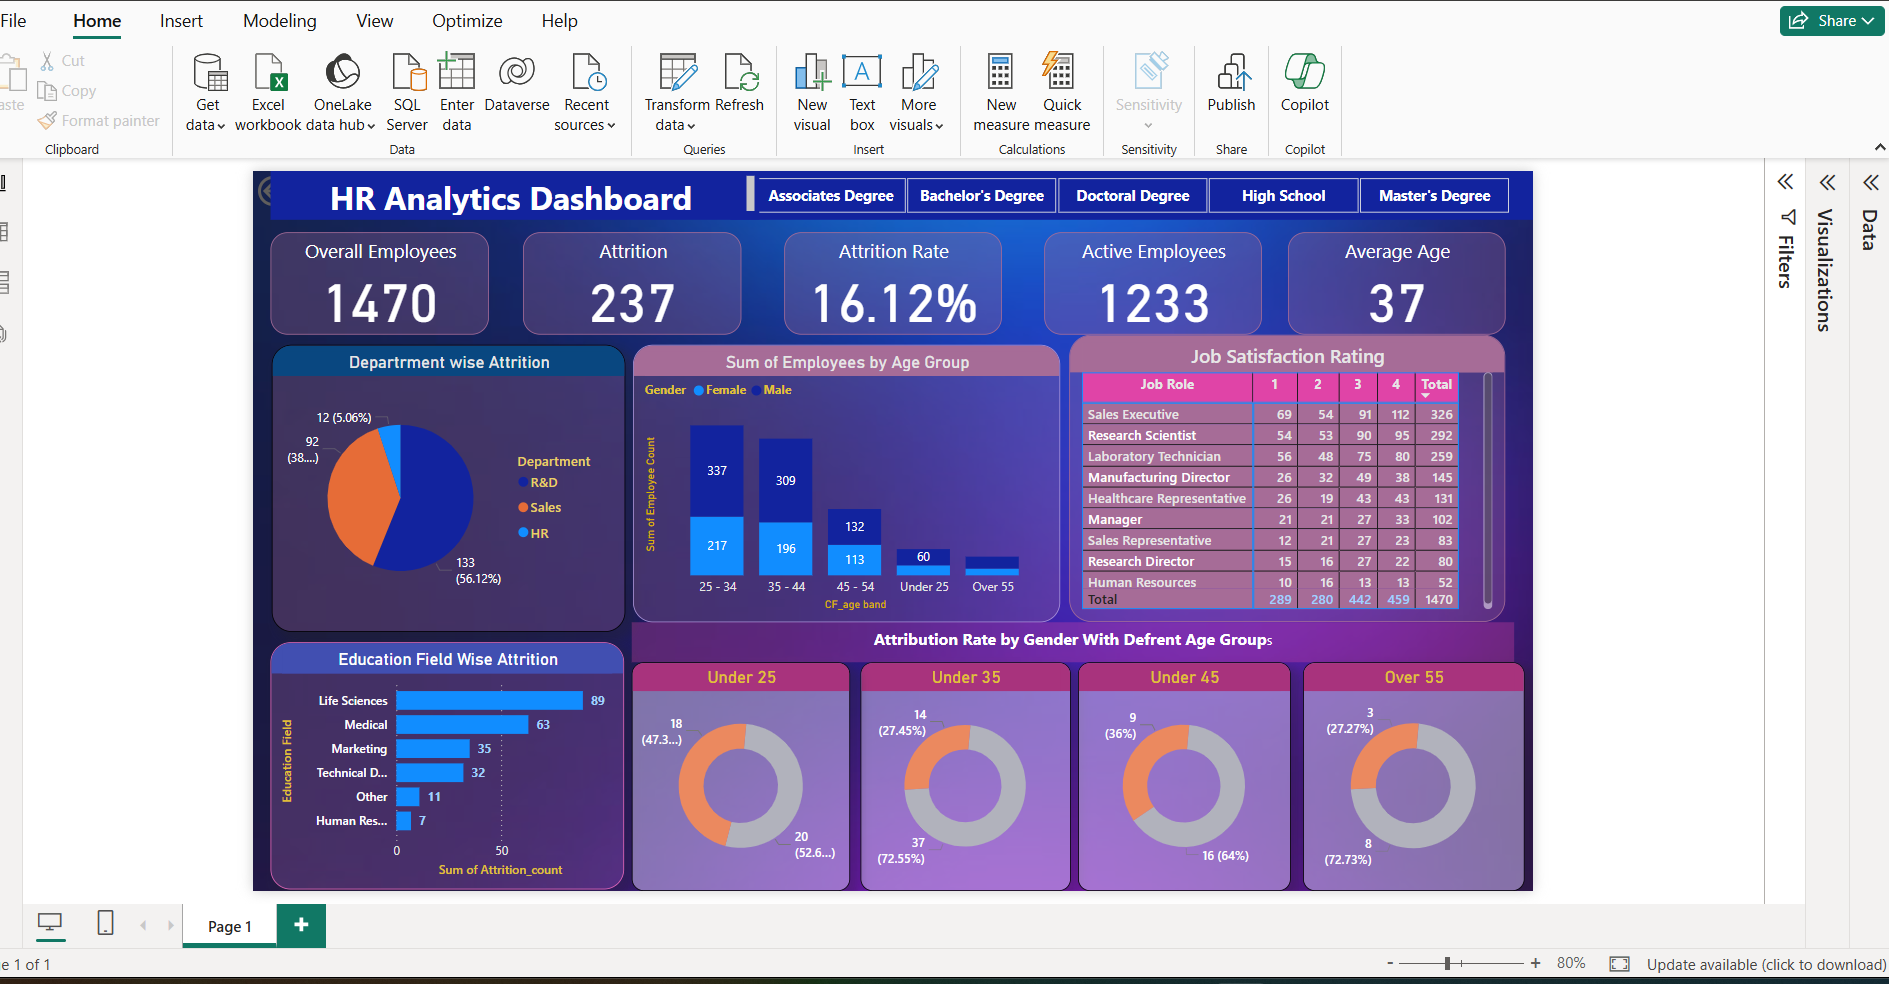

Layout of this report page (visuals, bound fields, positions):
{"tool":"powerbi","page":{"name":"Page 1","canvas":[1280,720],"ordinal":0},"visuals":[{"type":"card","title":"Overall Employees","fields":{"Values":["Sum(HR data.Employee Count)"]},"box":[17.5,61.2,218.8,102.5],"z":0},{"type":"card","title":"Attrition","fields":{"Values":["Sum(HR data.Attrition_count)"]},"box":[270,61.2,218.8,102.5],"z":1000},{"type":"card","title":"Attrition Rate","fields":{"Values":["HR data.Attrition Rate"]},"box":[531.2,61.2,217.5,102.5],"z":2000},{"type":"card","title":"Active Employees","fields":{"Values":["HR data.Active Employees"]},"box":[791.2,61.2,217.5,102.5],"z":3000},{"type":"card","title":"Average Age","fields":{"Values":["Avg(HR data.Age)"]},"box":[1035,61.2,217.5,102.5],"z":4000},{"type":"pieChart","title":"Departrment wise Attrition","fields":{"Category":["HR data.Department"],"Y":["Sum(HR data.Attrition_count)"]},"box":[18.8,173.8,353.8,287.5],"z":5000},{"type":"columnChart","title":"Sum of Employees by Age Group","fields":{"Category":["HR data.CF_age band"],"Y":["Sum(HR data.Employee Count)"],"Series":["HR data.Gender"]},"box":[387.5,163.8,420,287.5],"z":6000},{"type":"pivotTable","title":"Job Satisfaction Rating","fields":{"Rows":["HR data.Job Role"],"Columns":["HR data.Job Satisfaction"],"Values":["Sum(HR data.Employee Count)"]},"box":[816.2,163.8,436.2,287.5],"z":7000},{"type":"barChart","title":"Education Field Wise Attrition","fields":{"Category":["HR data.Education Field"],"Y":["Sum(HR data.Attrition_count)"]},"box":[17.5,471.2,353.8,247.5],"z":8000},{"type":"donutChart","title":"Under 35","fields":{"Category":["HR data.Gender"],"Y":["Sum(HR data.Attrition_count)"],"Series":["HR data.CF_age band"]},"box":[607.5,491.2,210,228.8],"z":9000},{"type":"donutChart","title":"Under 45","fields":{"Category":["HR data.Gender"],"Y":["Sum(HR data.Attrition_count)"],"Series":["HR data.CF_age band"]},"box":[825,491.2,212.5,228.8],"z":10000},{"type":"donutChart","title":"Under 25","fields":{"Category":["HR data.Gender"],"Y":["Sum(HR data.Attrition_count)"],"Series":["HR data.CF_age band"]},"box":[378.8,491.2,218.8,228.8],"z":11000},{"type":"textbox","box":[378.8,451.2,882.5,40],"z":12000},{"type":"donutChart","title":"Over 55","fields":{"Category":["HR data.Gender"],"Y":["Sum(HR data.Attrition_count)"],"Series":["HR data.CF_age band"]},"box":[1050,491.2,221.2,228.8],"z":13000},{"type":"actionButton","box":[0,0,100,40],"z":14000},{"type":"slicer","fields":{"Values":["HR data.Education"]},"box":[477.5,0,802.5,48.8],"z":15000},{"type":"textbox","title":"HR Analytics Dashboard","box":[17.5,0,488.8,48.8],"z":16000}]}

Visuals, with their boxes on the page's 1280x720 design canvas (x1, y1, x2, y2). These are canvas units, not pixel positions in the 1889x984 screenshot, which may show the page scaled, cropped or inside an application window:
"Overall Employees" card: l=18, t=61, r=236, b=164
"Attrition" card: l=270, t=61, r=489, b=164
"Attrition Rate" card: l=531, t=61, r=749, b=164
"Active Employees" card: l=791, t=61, r=1009, b=164
"Average Age" card: l=1035, t=61, r=1252, b=164
"Departrment wise Attrition" pieChart: l=19, t=174, r=373, b=461
"Sum of Employees by Age Group" columnChart: l=388, t=164, r=808, b=451
"Job Satisfaction Rating" pivotTable: l=816, t=164, r=1252, b=451
"Education Field Wise Attrition" barChart: l=18, t=471, r=371, b=719
"Under 35" donutChart: l=608, t=491, r=818, b=720
"Under 45" donutChart: l=825, t=491, r=1038, b=720
"Under 25" donutChart: l=379, t=491, r=598, b=720
textbox: l=379, t=451, r=1261, b=491
"Over 55" donutChart: l=1050, t=491, r=1271, b=720
actionButton: l=0, t=0, r=100, b=40
slicer - HR data.Education: l=478, t=0, r=1280, b=49
"HR Analytics Dashboard" textbox: l=18, t=0, r=506, b=49
